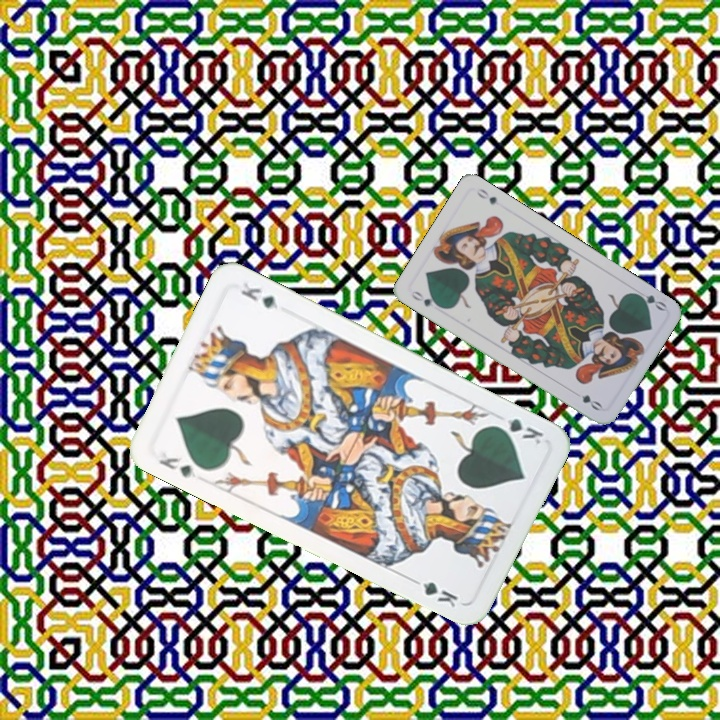GK: (489, 414, 546, 447), (155, 453, 199, 481)
GO: (629, 289, 669, 313), (407, 287, 445, 311)
